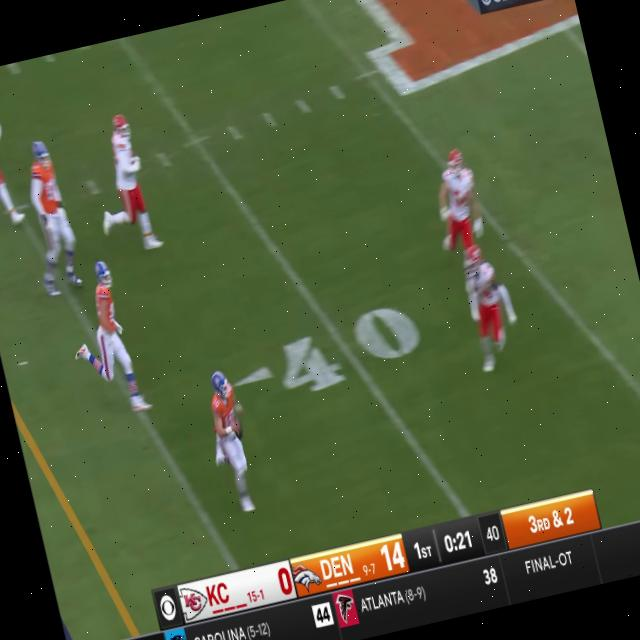Player: (71, 255, 149, 422), (197, 363, 266, 519), (452, 240, 528, 376), (21, 136, 86, 292), (96, 109, 160, 258), (422, 148, 488, 250), (0, 84, 24, 234)
